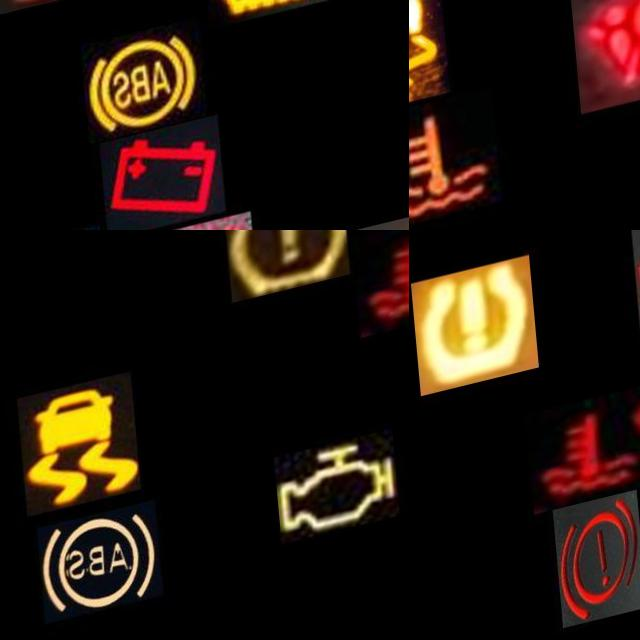Engine cooling system: (518, 397, 640, 520), (409, 95, 491, 230), (346, 234, 409, 356)
